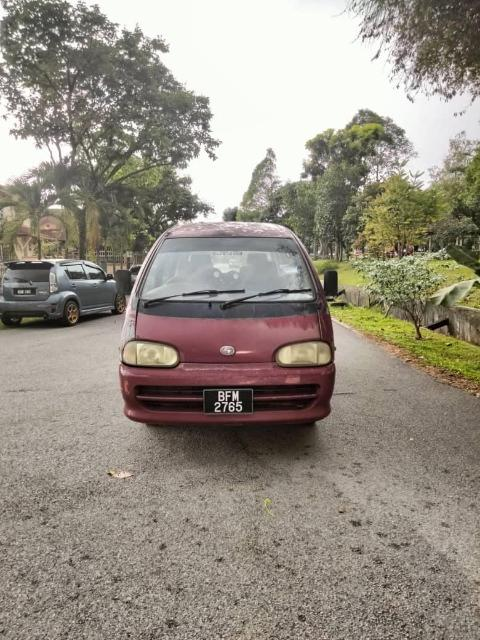License_Plate: (208, 388, 255, 418)
car: (115, 223, 338, 436)
